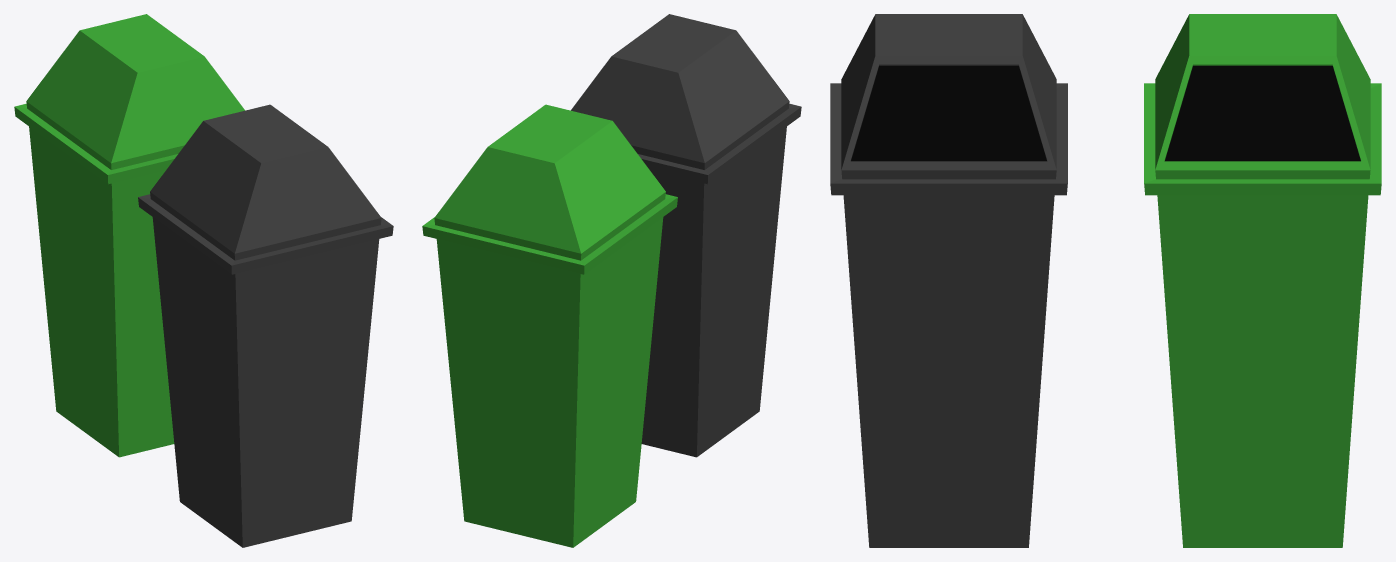
Rendered from Tachos de Basura (1).fbx.
The picture shows the model from 3 angles, left to right: view 1: azimuth 30°, elevation 25°; view 2: azimuth 150°, elevation 25°; view 3: azimuth 270°, elevation 25°; orthographic projection. The views are drawn at different scales.
Visible parts, largest first — view 1: Cube.002, Cube; view 2: Cube, Cube.002; view 3: Cube, Cube.002.
Part boxes in pixels (x1,y1,x2,y2): Cube.002: [138, 104, 393, 547]; Cube: [14, 14, 244, 457]; Cube: [422, 104, 677, 547]; Cube.002: [571, 14, 801, 457]; Cube: [1144, 14, 1381, 547]; Cube.002: [830, 14, 1067, 547].
Bounding box in the file's own units: 221 × 492 × 512.
